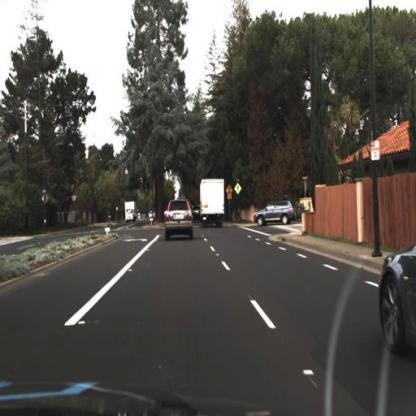car: (377, 225, 415, 372), (162, 193, 198, 251), (197, 177, 231, 231), (249, 198, 299, 228), (254, 198, 296, 226), (124, 197, 138, 228), (149, 211, 155, 219)
truck: (201, 178, 226, 229), (125, 202, 137, 223)
